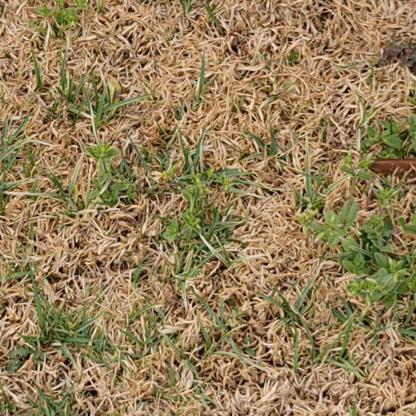Weeds: (298, 154, 415, 312), (88, 141, 234, 261)
